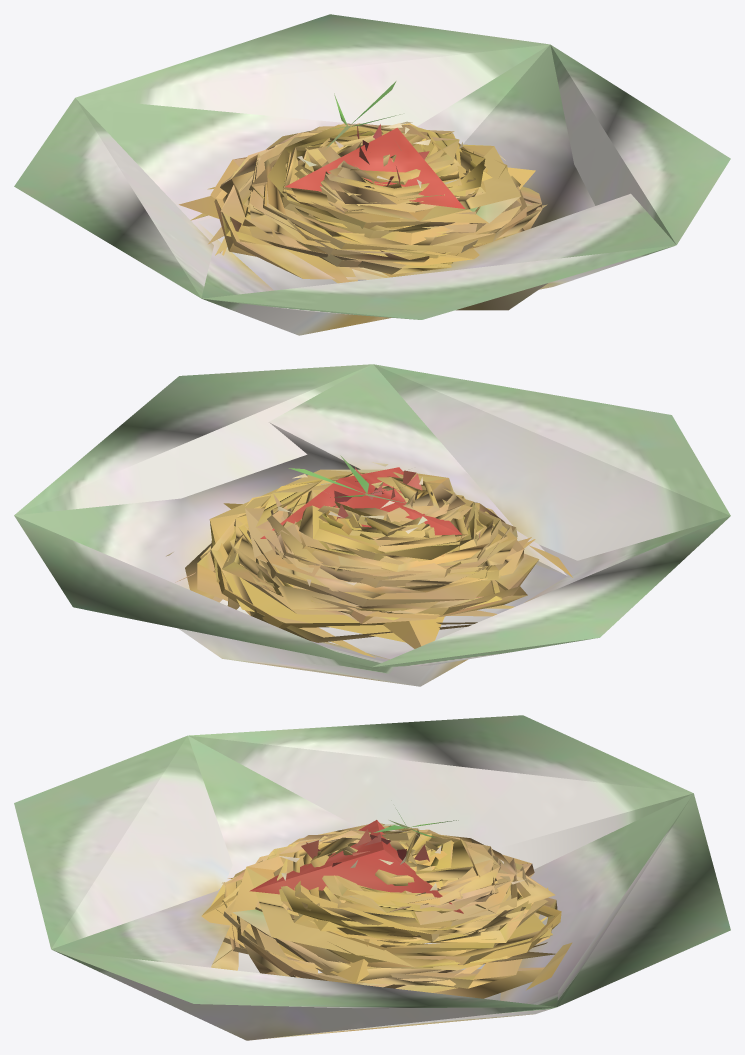
Rendered from food-pasta-plate.glb.
The picture shows the model from 3 angles, top to bottom: view 1: azimuth 30°, elevation 25°; view 2: azimuth 150°, elevation 25°; view 3: azimuth 270°, elevation 25°; orthographic projection. The views are drawn at different scales.
Parts seen in each view (by area): view 1: pasta-plate_body; view 2: pasta-plate_body; view 3: pasta-plate_body.
Boxes of the visible parts, <box> form: pasta-plate_body: <box>14,14,730,335</box>; pasta-plate_body: <box>14,364,730,686</box>; pasta-plate_body: <box>14,715,730,1040</box>.
Size of the model in its own units: 4.44 by 1.19 by 4.6.
Materials: 1 (1 with a texture image).
